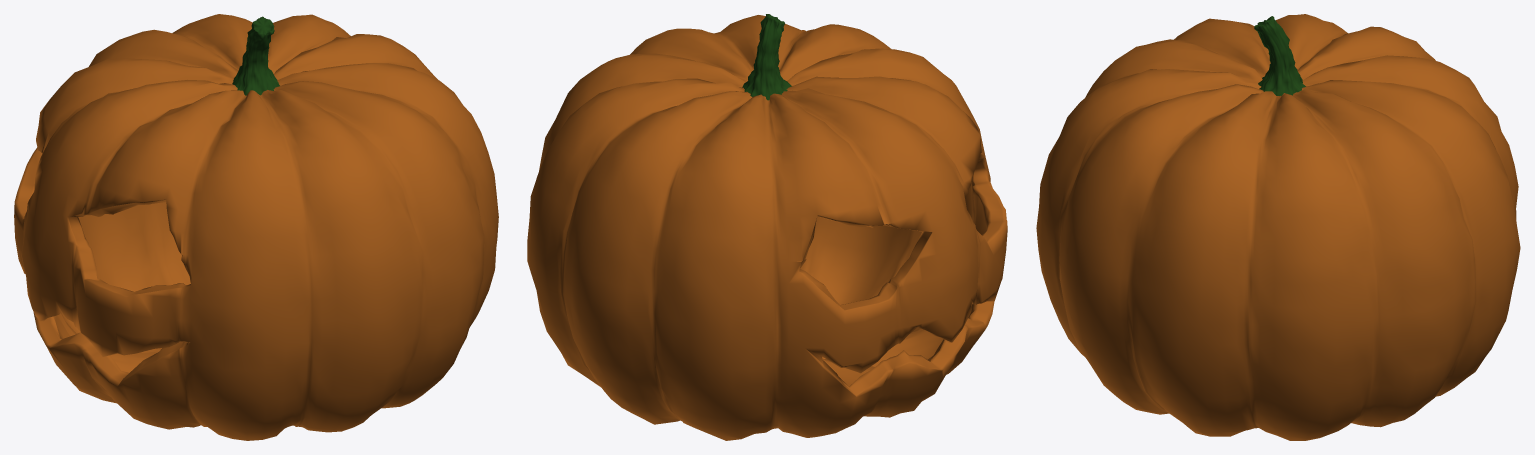
The model's file is pumpkin2K.fbx.
3 views of the same model, side by side, from view 1: azimuth 30°, elevation 25°; view 2: azimuth 150°, elevation 25°; view 3: azimuth 270°, elevation 25° (orthographic).
Visible parts, largest first — view 1: Sphere; view 2: Sphere; view 3: Sphere.
Part boxes in pixels (x1,y1,x2,y2): Sphere: (14, 14, 498, 440); Sphere: (527, 14, 1007, 440); Sphere: (1036, 14, 1520, 440).
Size of the model in its own units: 196 by 163 by 197.
